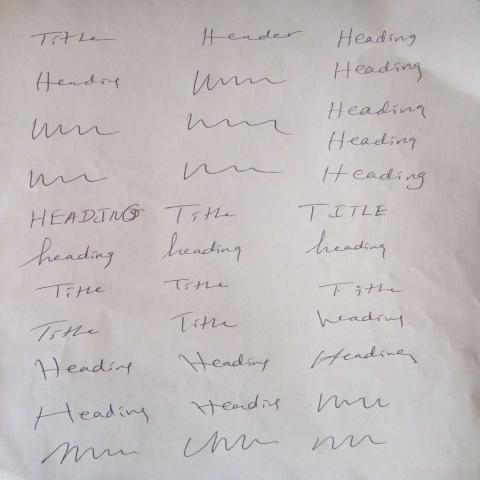Heading: (31, 402, 150, 433), (30, 203, 147, 230), (20, 237, 116, 269), (182, 431, 284, 460), (323, 163, 427, 191), (311, 346, 419, 371), (186, 111, 293, 136), (37, 441, 141, 466), (191, 71, 290, 97), (35, 356, 133, 382), (200, 26, 306, 48), (161, 234, 242, 262), (306, 231, 388, 258), (188, 395, 283, 418), (29, 119, 123, 142), (36, 70, 121, 95), (334, 61, 426, 84), (177, 351, 271, 373), (184, 161, 286, 181), (327, 131, 420, 152), (315, 393, 394, 416), (328, 101, 427, 119), (309, 432, 390, 454), (337, 28, 419, 49), (30, 319, 101, 343), (28, 30, 116, 49), (298, 204, 390, 222), (316, 309, 405, 327), (29, 170, 110, 189), (317, 282, 406, 299), (170, 312, 238, 333), (164, 205, 234, 225), (34, 283, 105, 300), (163, 278, 232, 292)
